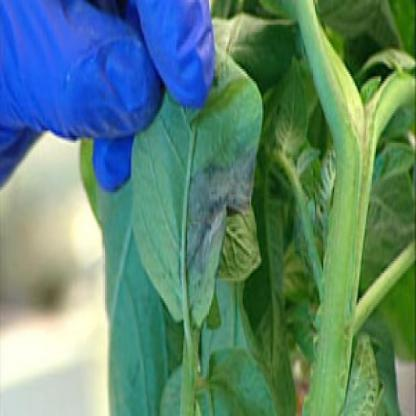Potato leaf early blight: (125, 35, 266, 330)
